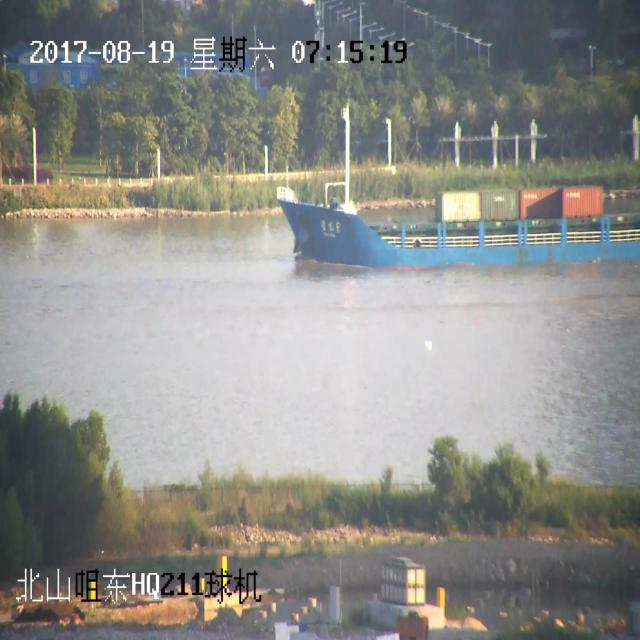cargoship: (280, 137, 640, 281)
